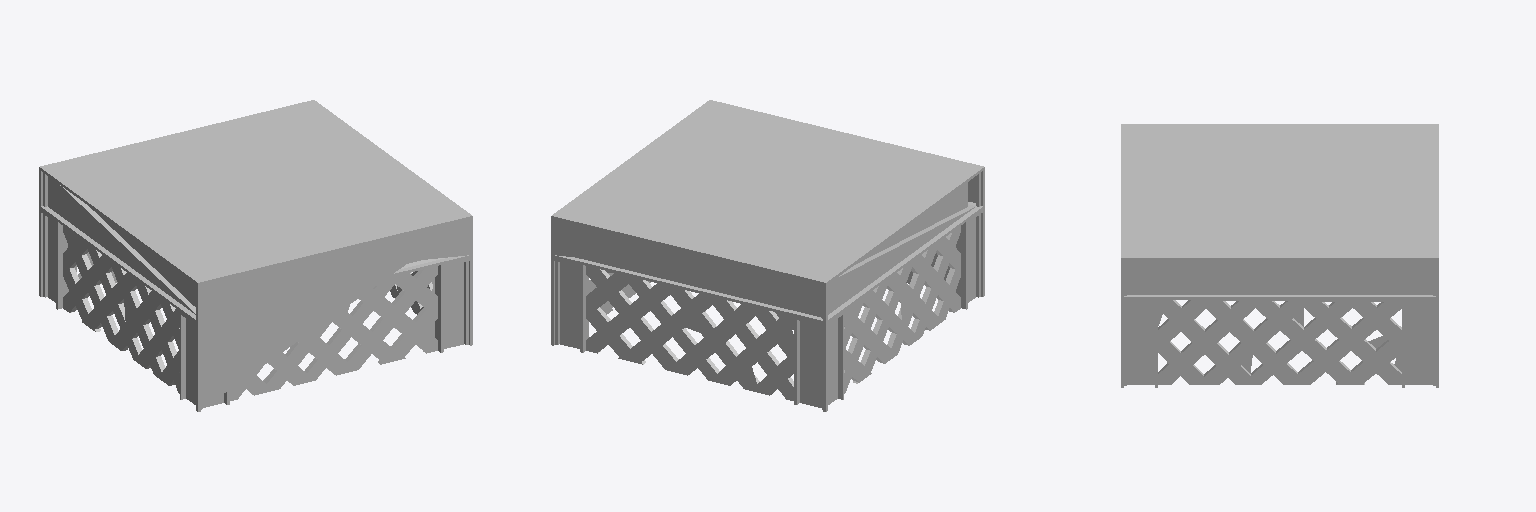
File: Half_Crate__100148_.obj
3 renders of one model, left to right at view 1: azimuth 30°, elevation 25°; view 2: azimuth 150°, elevation 25°; view 3: azimuth 270°, elevation 25°, orthographic.
Parts seen in each view (by area): view 1: Half_Crate__100148__temp_Half_Crate__100148_.004; view 2: Half_Crate__100148__temp_Half_Crate__100148_.004; view 3: Half_Crate__100148__temp_Half_Crate__100148_.004.
Part boxes in pixels (x1,y1,x2,y2): Half_Crate__100148__temp_Half_Crate__100148_.004: (39,100,472,411); Half_Crate__100148__temp_Half_Crate__100148_.004: (551,100,984,411); Half_Crate__100148__temp_Half_Crate__100148_.004: (1121,124,1438,387).
Bounding box in the file's own units: 0.3334 × 0.15 × 0.3334.